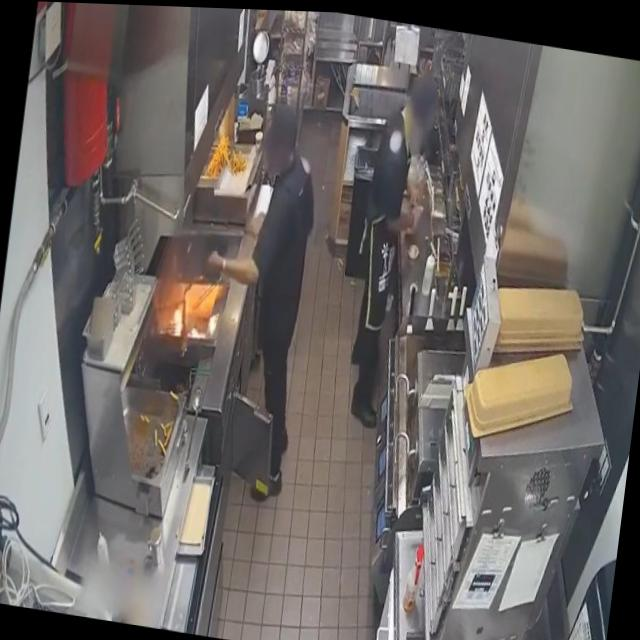fire: (166, 298, 206, 340)
